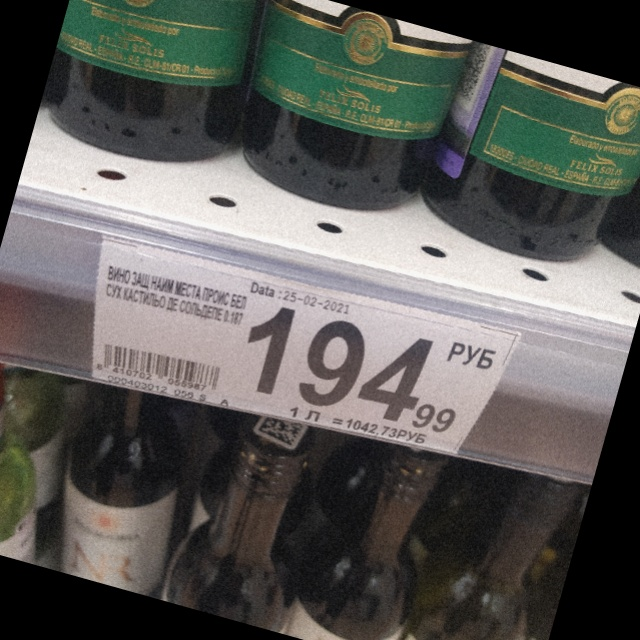barcode: (96, 339, 225, 395)
name: (102, 259, 252, 329)
price: (246, 305, 458, 439)
price_tag: (81, 239, 519, 458)
